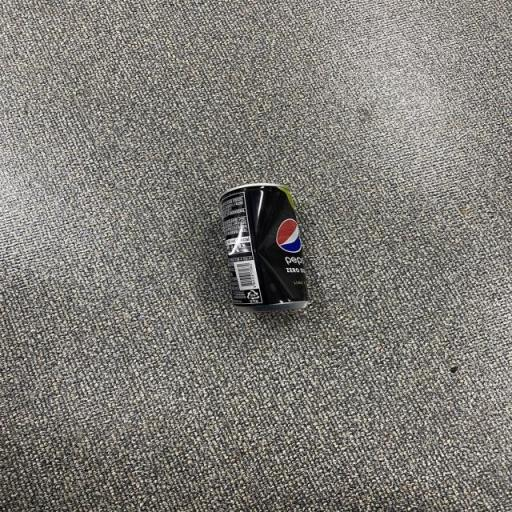metal: (144, 173, 388, 345)
